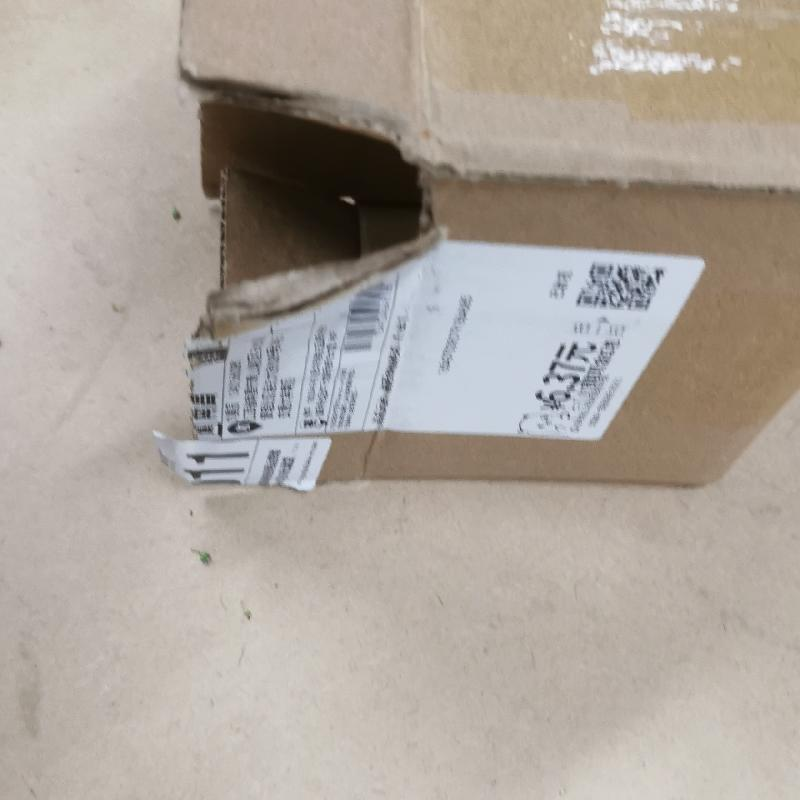boxes: (161, 1, 799, 496)
